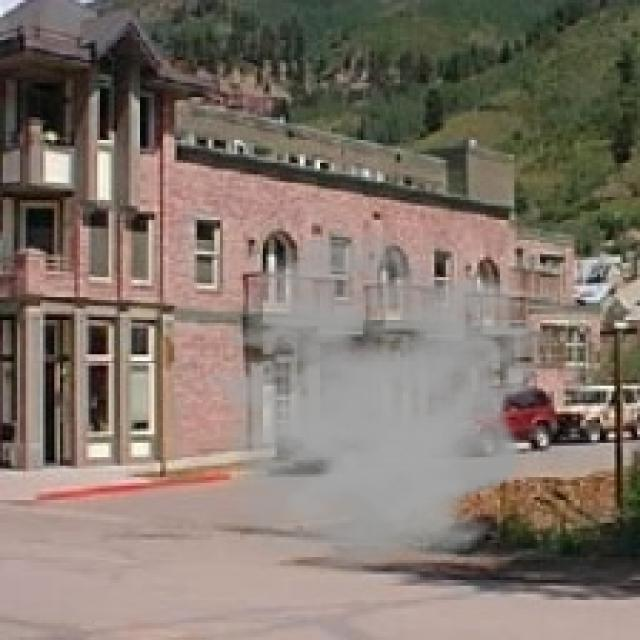smoke: (180, 232, 554, 577)
